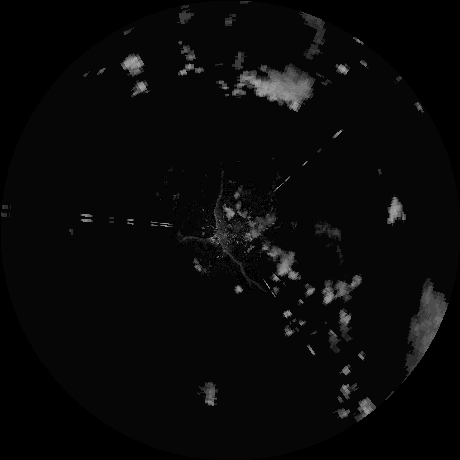frontgust: (213, 185, 252, 283)
